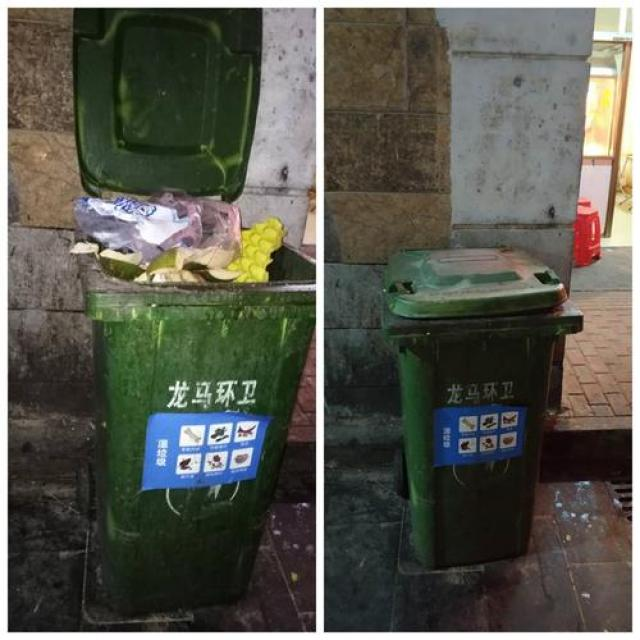garbage_bin: (379, 244, 582, 568)
overflow: (72, 188, 315, 612)
